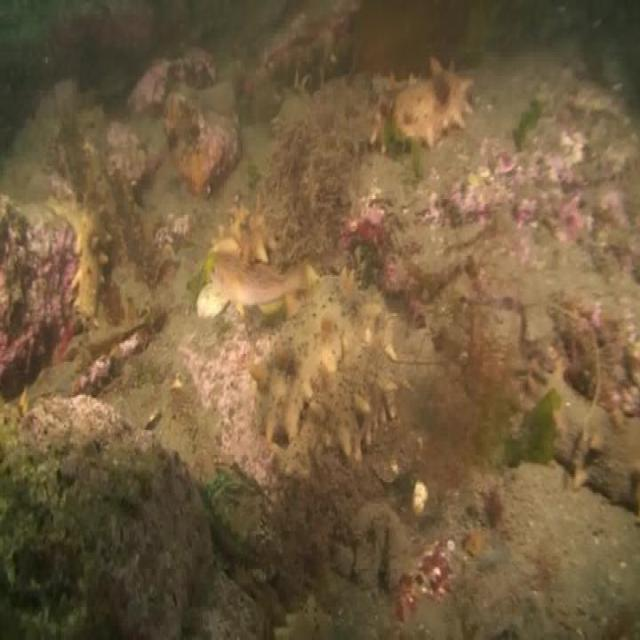holothurian: (249, 265, 371, 441), (520, 362, 640, 513), (314, 330, 410, 466), (389, 58, 476, 156), (51, 194, 113, 318), (211, 198, 277, 260)
scallop: (414, 482, 424, 514)
